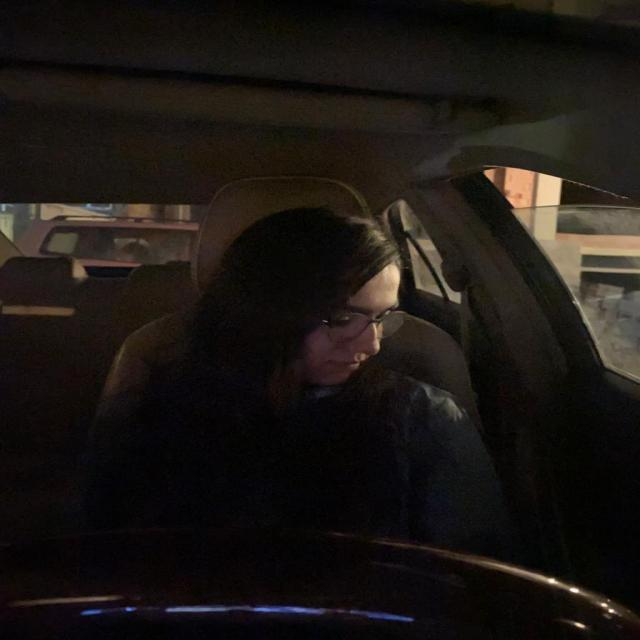drowsy: (225, 203, 416, 407)
